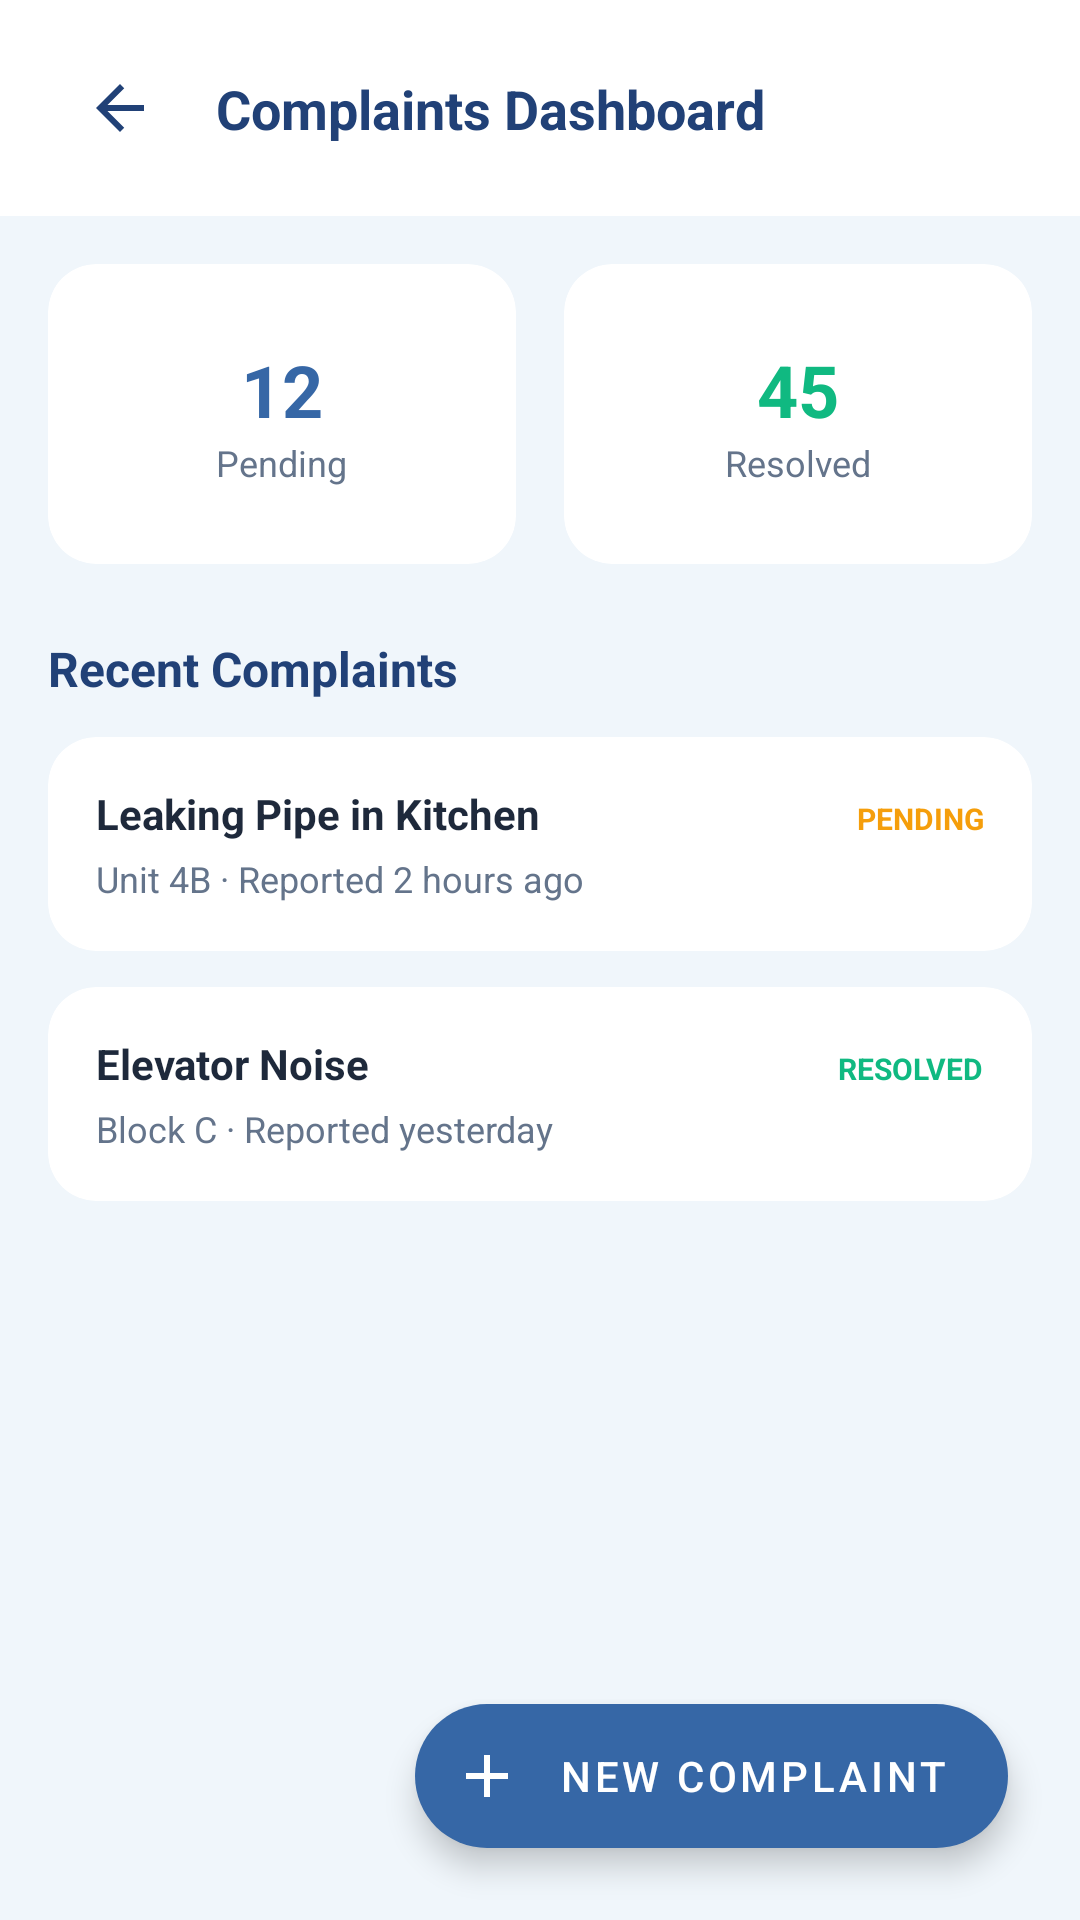

Screen size 1080px×1920px. Icon name, then its box in pixels as bbox=(x1, y1, x2, y2):
arrow back: bbox=(96, 84, 144, 132)
